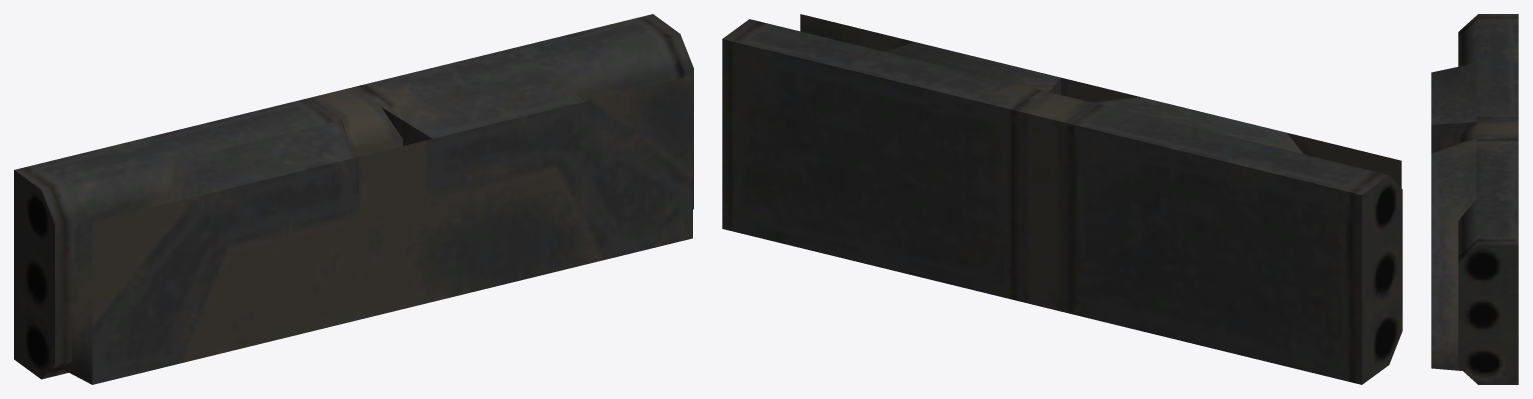
Rendered from segment_01_pair_1.glb.
3 views of the same model, side by side, from view 1: azimuth 30°, elevation 25°; view 2: azimuth 150°, elevation 25°; view 3: azimuth 270°, elevation 25° (orthographic). The views are drawn at different scales.
Parts seen in each view (by area): view 1: set_0_group_0; view 2: set_0_group_0; view 3: set_0_group_0.
Boxes of the visible parts, x1=… form: set_0_group_0: x1=14, y1=14, x2=693, y2=384; set_0_group_0: x1=722, y1=14, x2=1402, y2=384; set_0_group_0: x1=1431, y1=14, x2=1518, y2=384.
Size of the model in its own units: 0.6345 by 0.1799 by 0.1014.
Materials: 1 (1 with a texture image).
